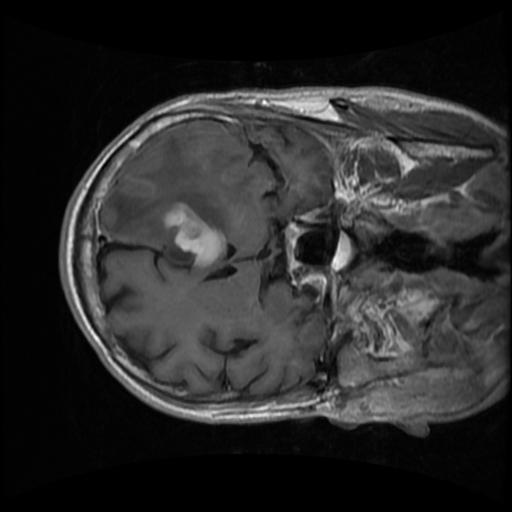glioma: (106, 138, 256, 275)
